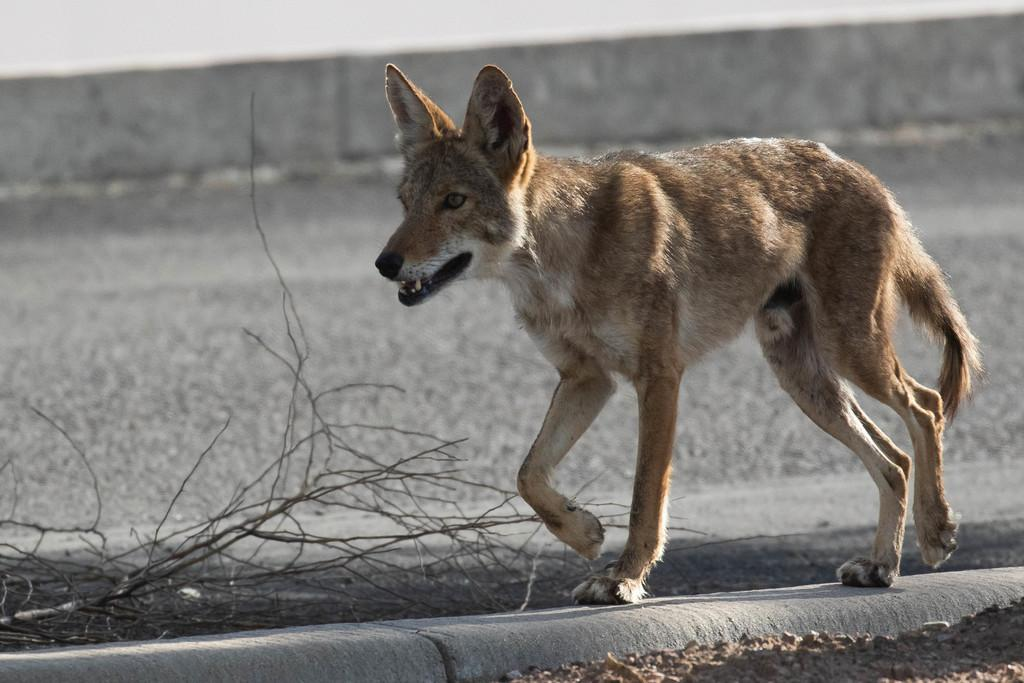Coyote: (373, 58, 991, 605)
